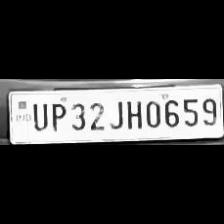0: (143, 97, 161, 129)
2: (86, 98, 106, 132)
3: (68, 98, 86, 132)
5: (180, 95, 198, 127)
6: (161, 95, 179, 129)
9: (199, 93, 219, 126)
H: (123, 97, 143, 131)
J: (106, 97, 124, 131)
P: (47, 98, 66, 132)
U: (28, 98, 48, 132)
